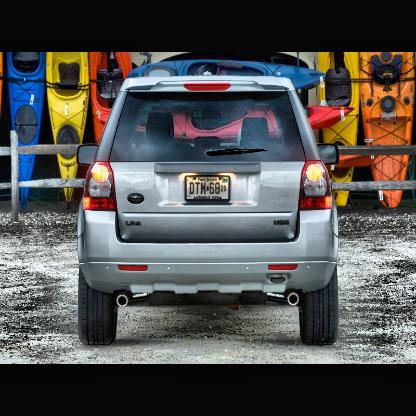Land Rover LR2 SUV 2012: (71, 75, 345, 349)
